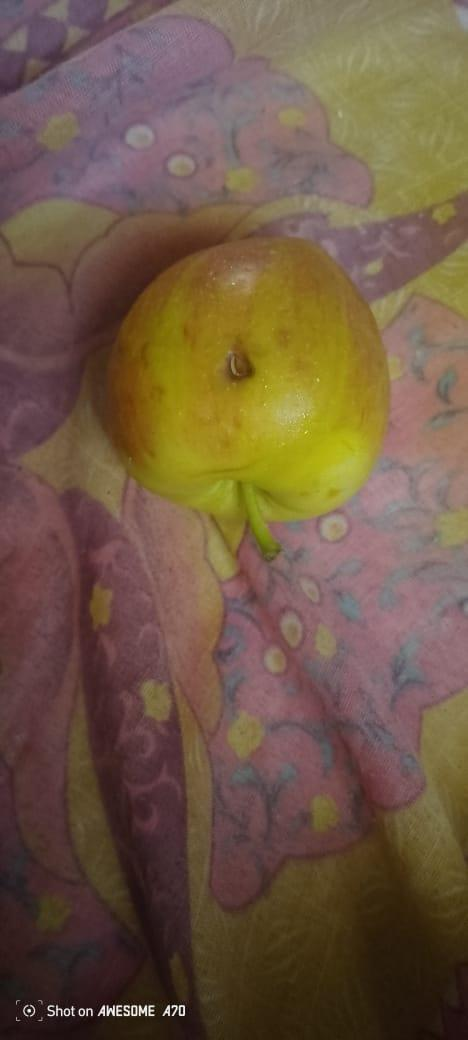non-mango: (110, 231, 398, 523)
